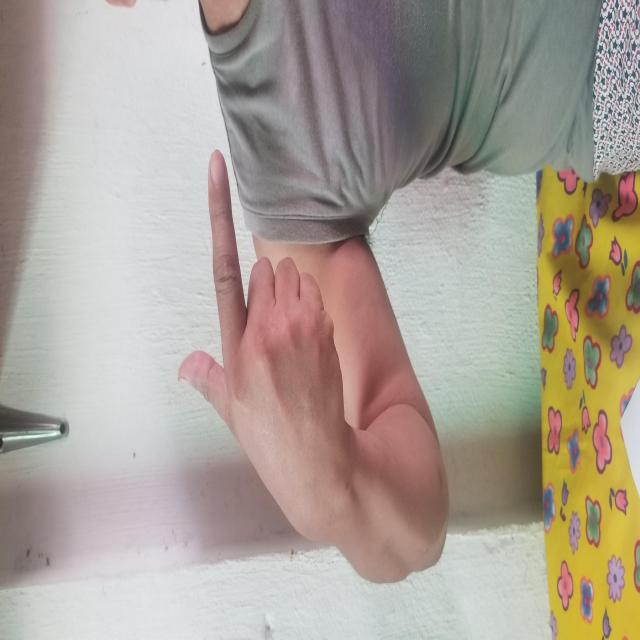G: (153, 178, 491, 344)
